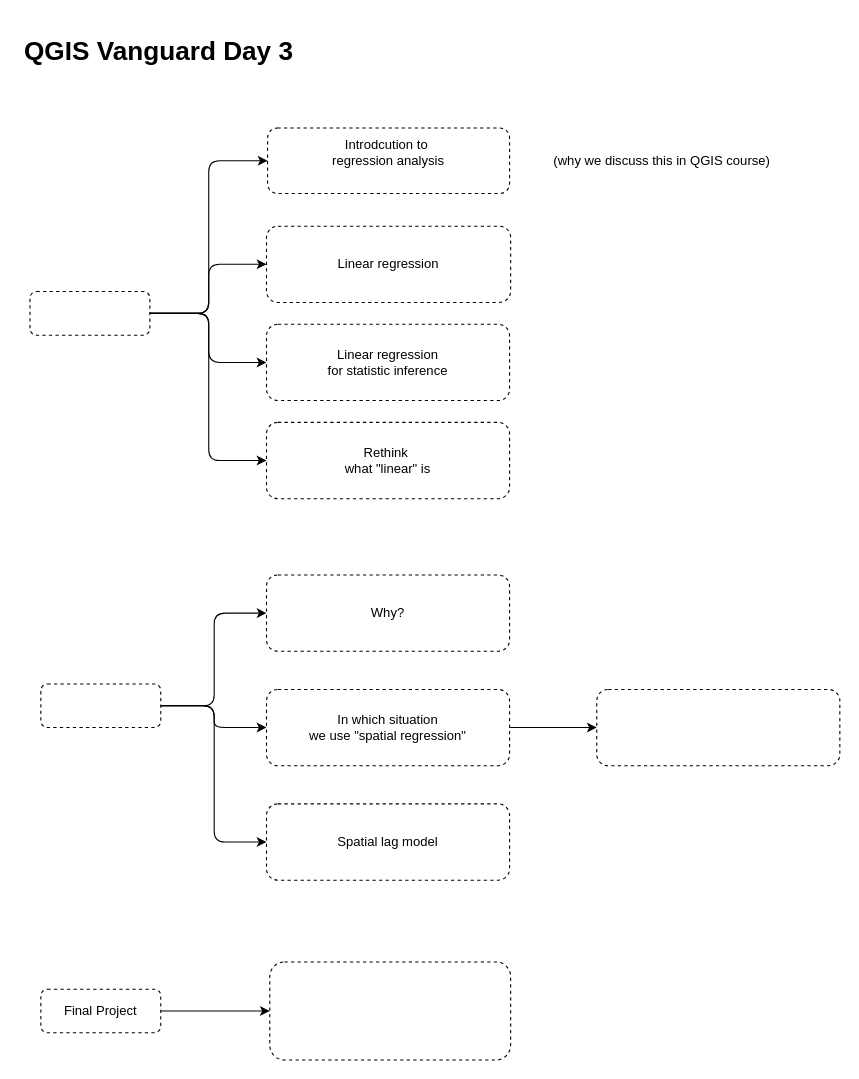
This 859x1079 diagram has some shape labels left out. Here are the shapes that lost their labels. From the top down, the centre of each, then its label:
the point at 89,312: Regression
the point at 100,705: Spatial Regression
the point at 718,727: Spatial Autocorrelation (Moran's I Test)
the point at 390,1010: Develop a plugin/processing tool to generate global and local Moran's I
